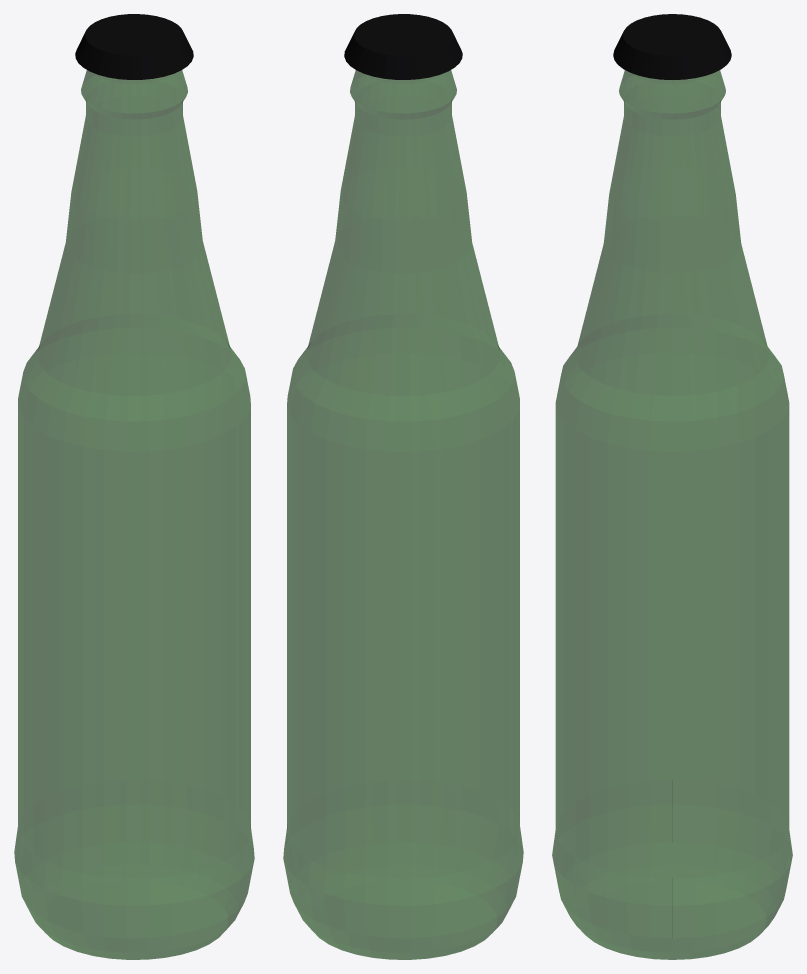
The model's file is Bottle.fbx.
The picture shows the model from 3 angles, left to right: view 1: azimuth 30°, elevation 25°; view 2: azimuth 150°, elevation 25°; view 3: azimuth 270°, elevation 25°; orthographic projection.
Parts seen in each view (by area): view 1: Cylinder; view 2: Cylinder; view 3: Cylinder.
Part boxes in pixels (x1,y1,x2,y2): Cylinder: (14,14,254,959); Cylinder: (283,14,523,959); Cylinder: (552,14,792,959).
Size of the model in its own units: 84.51 by 343 by 84.51.
